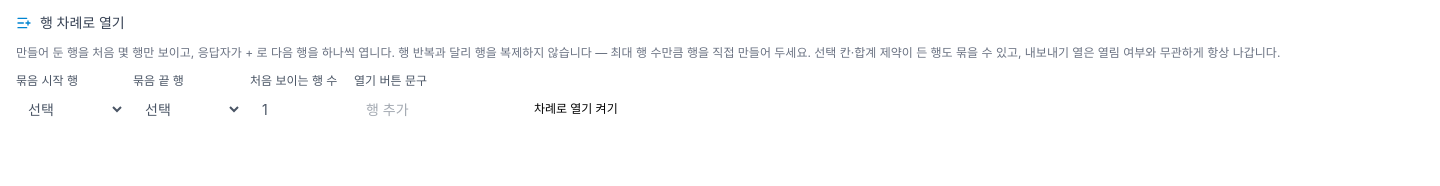
Scenario: 행 차례로 열기 설정 카드 › 표시 조건이 걸린 행은 지정을 막는다
Select "2행 · 국가 1" in the dropdown labelled "묶음 시작 행" at (70, 109), box [16, 93, 125, 125]
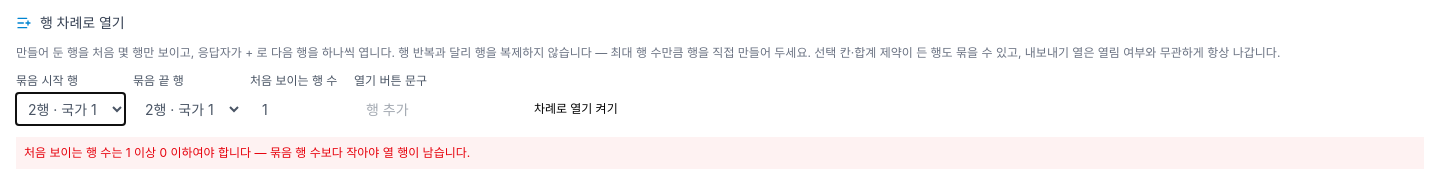
Select "5행 · 국가 4" in the dropdown labelled "묶음 끝 행" at (188, 109), box [133, 93, 242, 125]
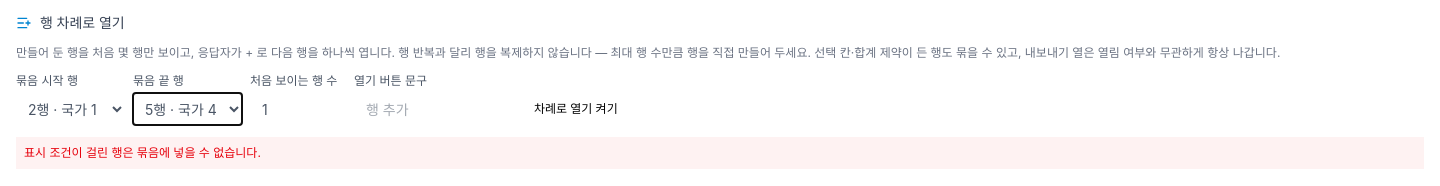
Expected: the button "차례로 열기 켜기" is disabled, [522, 93, 630, 125]
Result: the list item "표시 조건이 걸린 행은 묶음에 넣을 수 없습니다." is shown at [24, 145, 261, 160]
